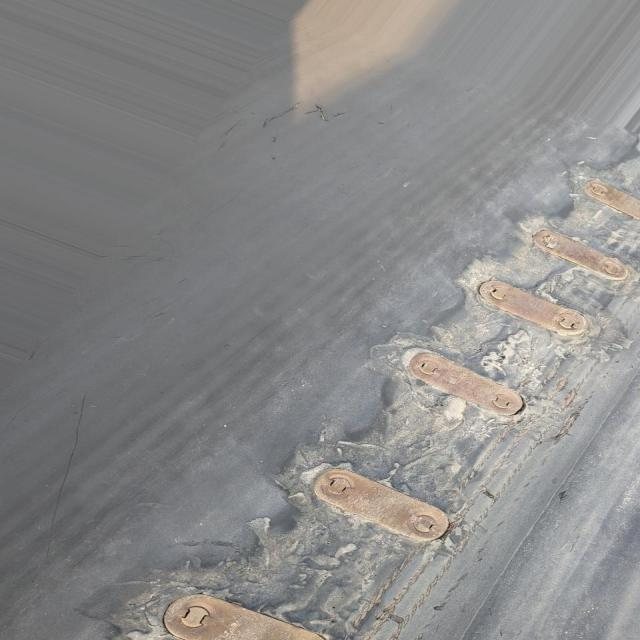patch work: (97, 156, 640, 640)
